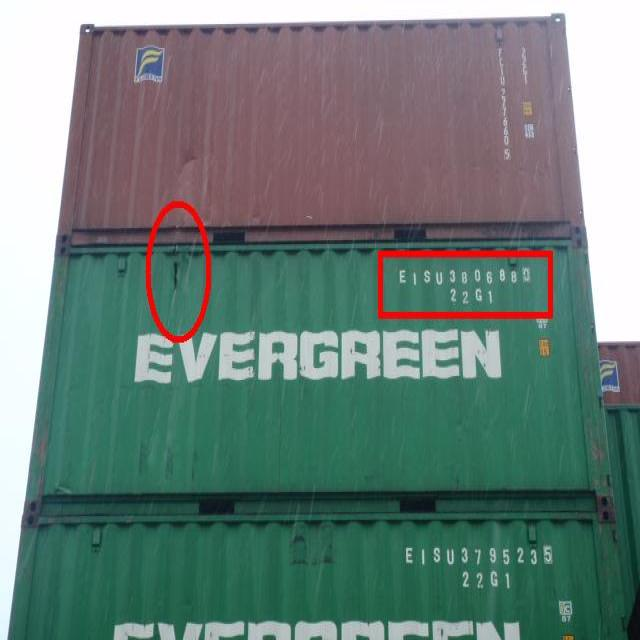hole: (169, 257, 188, 299)
